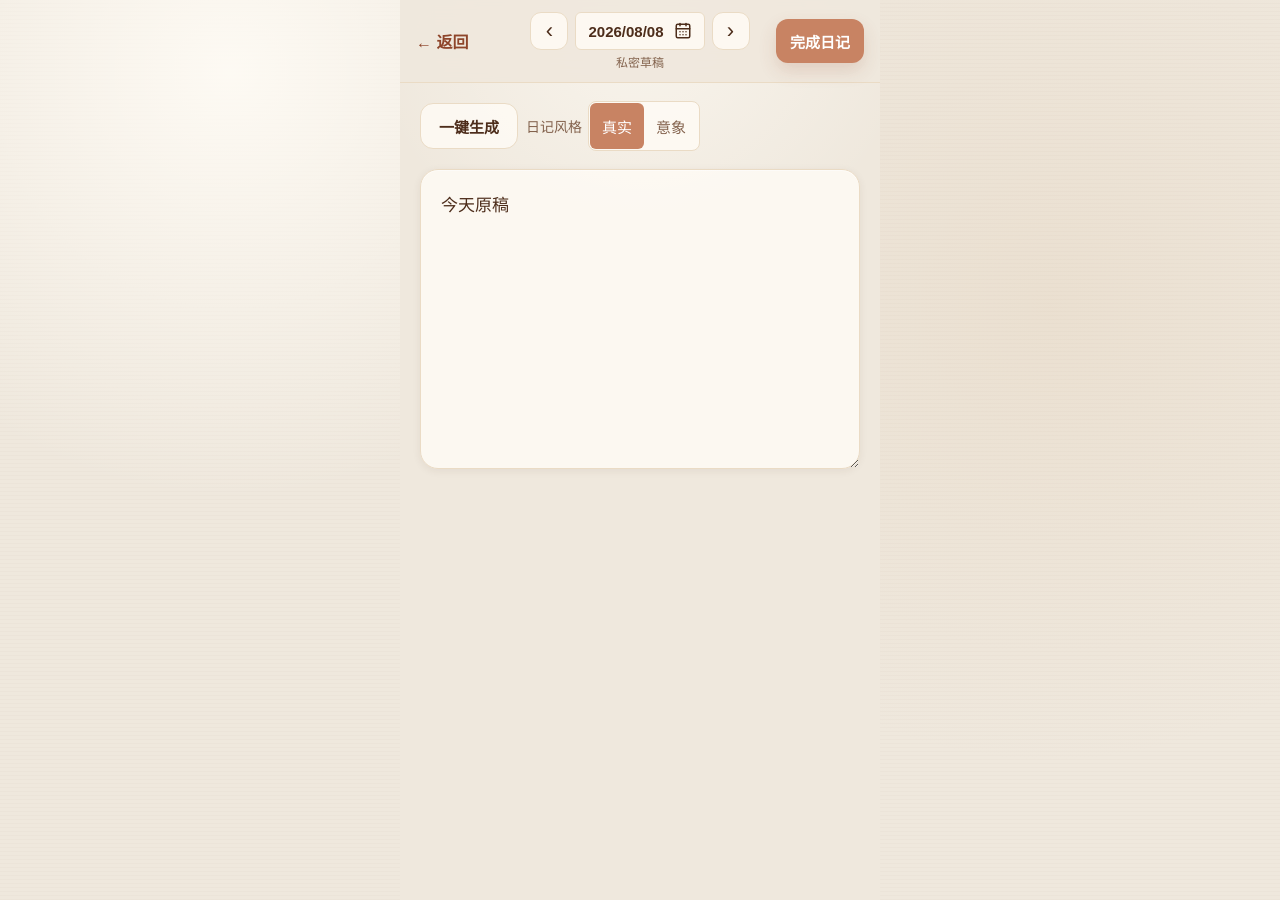
Test case: DiaryEditor › can complete a private diary while keeping the story-save step optional
The width and height of the screenshot is (1280, 900).
Check: the text "私密草稿" is shown, box left=616, top=56, right=664, bottom=70
Replace the text in the text box with "完成前的正文" at {"x": 640, "y": 319}, box left=420, top=169, right=860, bottom=469
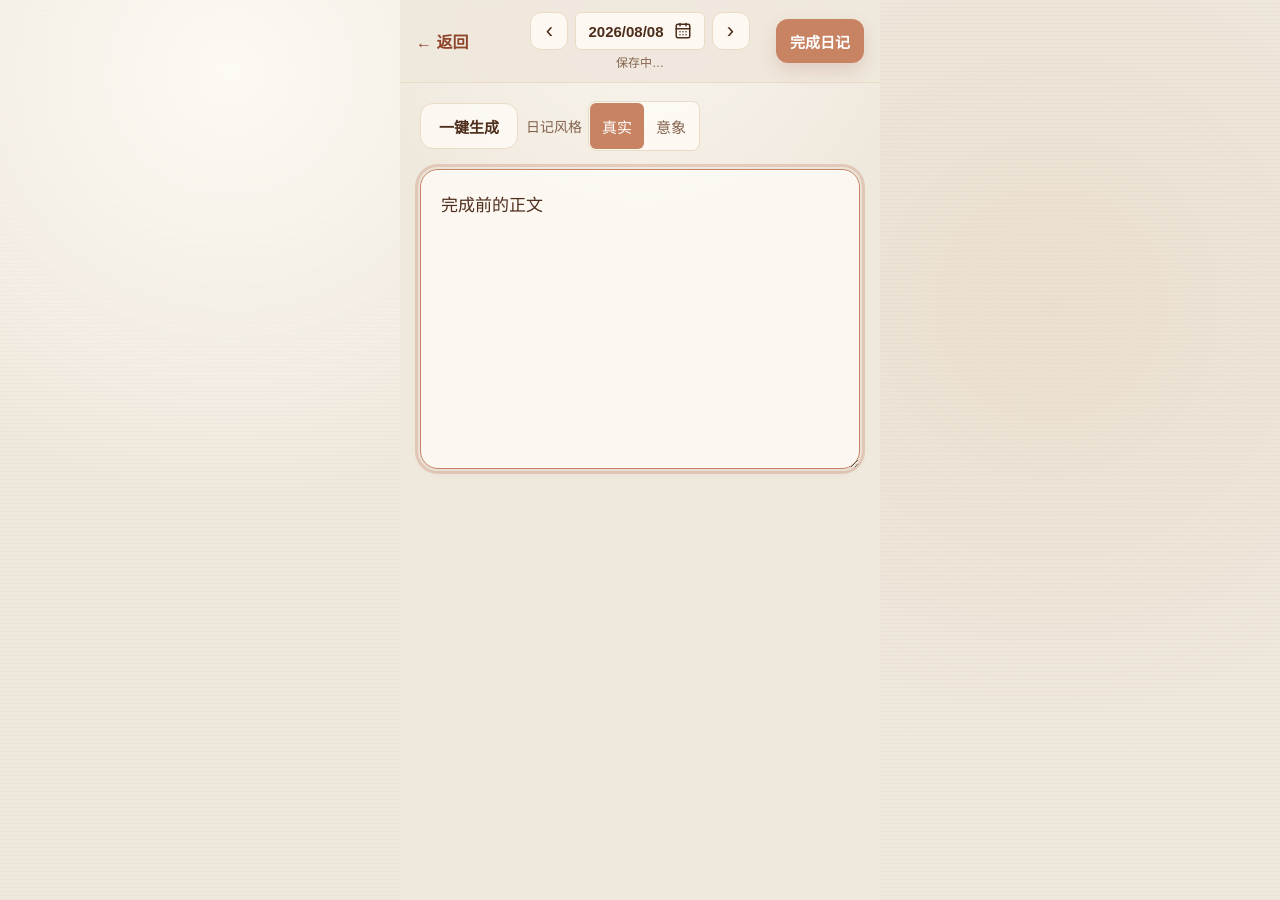
Click the button "完成日记" at {"x": 820, "y": 41}, box left=776, top=19, right=864, bottom=63
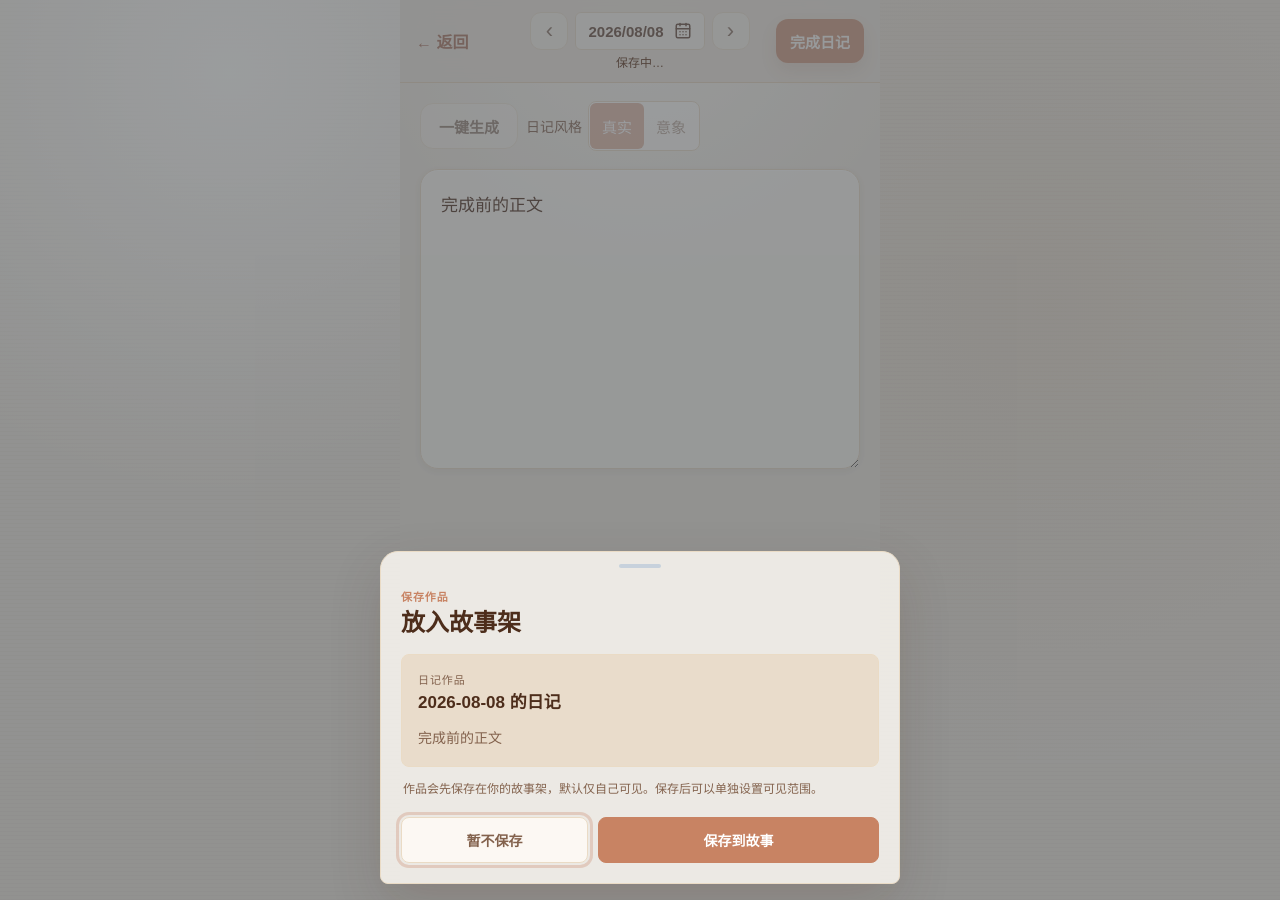
Check: the text "完成前的正文" is shown, box left=418, top=730, right=502, bottom=746
Check: the button "暂不保存" is shown, box left=401, top=817, right=588, bottom=863
